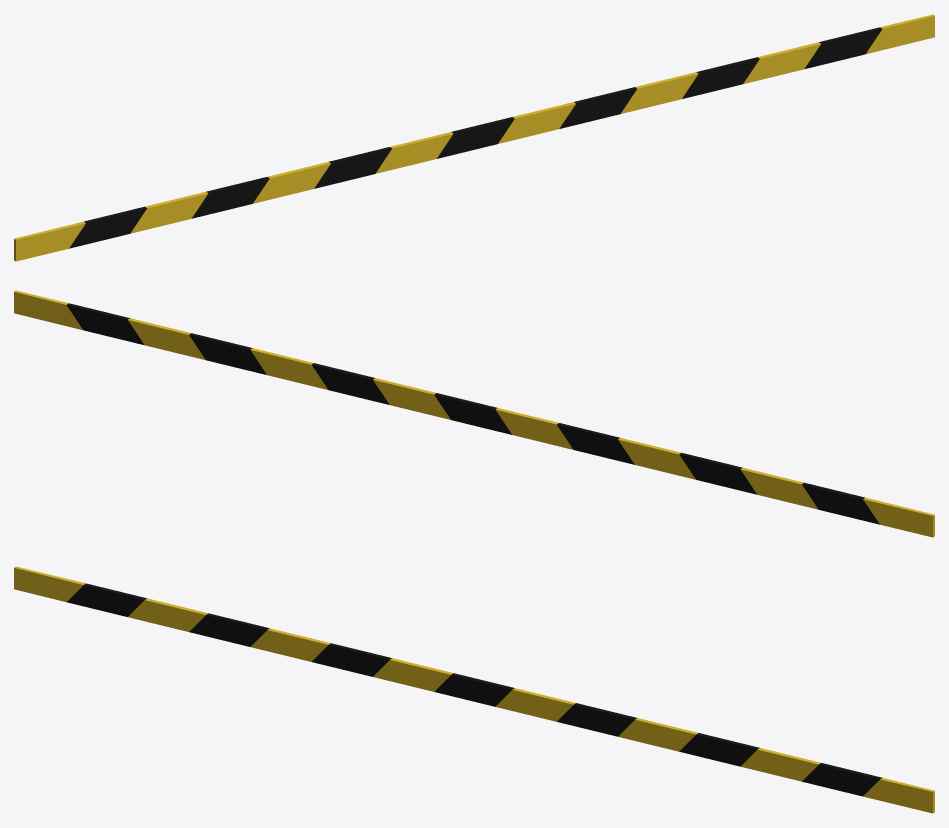
File: barricade.fbx
The picture shows the model from 3 angles, top to bottom: view 1: azimuth 30°, elevation 25°; view 2: azimuth 150°, elevation 25°; view 3: azimuth 330°, elevation 25°; orthographic projection.
Parts seen in each view (by area): view 1: Cube.001; view 2: Cube.001; view 3: Cube.001.
Part boxes in pixels (bbox=[...]): Cube.001: bbox=[14, 14, 934, 261]; Cube.001: bbox=[14, 290, 934, 537]; Cube.001: bbox=[14, 566, 934, 813].
Size of the model in its own units: 200 by 4.48 by 0.9168.
